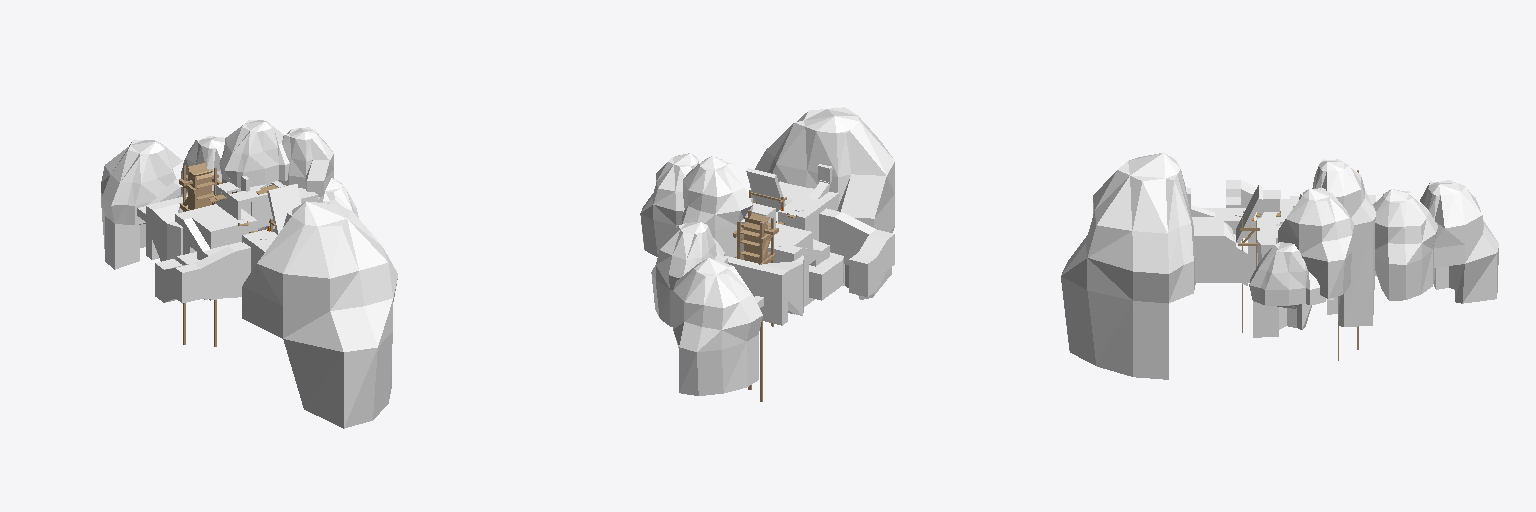
The model's file is stage6whitebox1.obj.
The picture shows the model from 3 angles: view 1: azimuth 30°, elevation 25°; view 2: azimuth 150°, elevation 25°; view 3: azimuth 270°, elevation 25°; orthographic projection.
Parts seen in each view (by area): view 1: stage6whitebox1; view 2: stage6whitebox1; view 3: stage6whitebox1.
Part boxes in pixels (x1,y1,x2,y2): stage6whitebox1: (101,120,397,428); stage6whitebox1: (640,107,894,401); stage6whitebox1: (1061,153,1498,379).
Size of the model in its own units: 45.12 by 47.04 by 85.42.